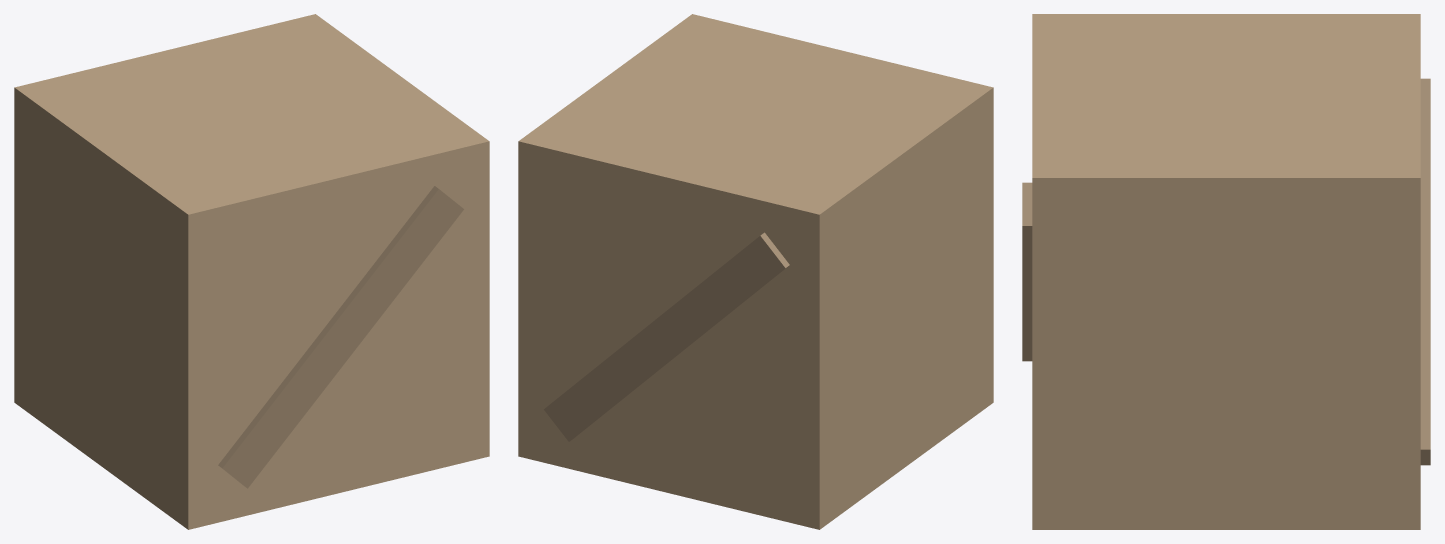
Rendered from Prop_Crate_Wood.fbx.
3 renders of one model, left to right at view 1: azimuth 30°, elevation 25°; view 2: azimuth 150°, elevation 25°; view 3: azimuth 270°, elevation 25°, orthographic. The views are drawn at different scales.
Visible parts, largest first — view 1: Prop_Crate_Wood; view 2: Prop_Crate_Wood; view 3: Prop_Crate_Wood.
Boxes of the visible parts, x1,y1,x2,y2 form: Prop_Crate_Wood: [14, 14, 489, 529]; Prop_Crate_Wood: [518, 14, 993, 529]; Prop_Crate_Wood: [1022, 14, 1430, 529].
Size of the model in its own units: 1.18 by 1.18 by 1.24.
